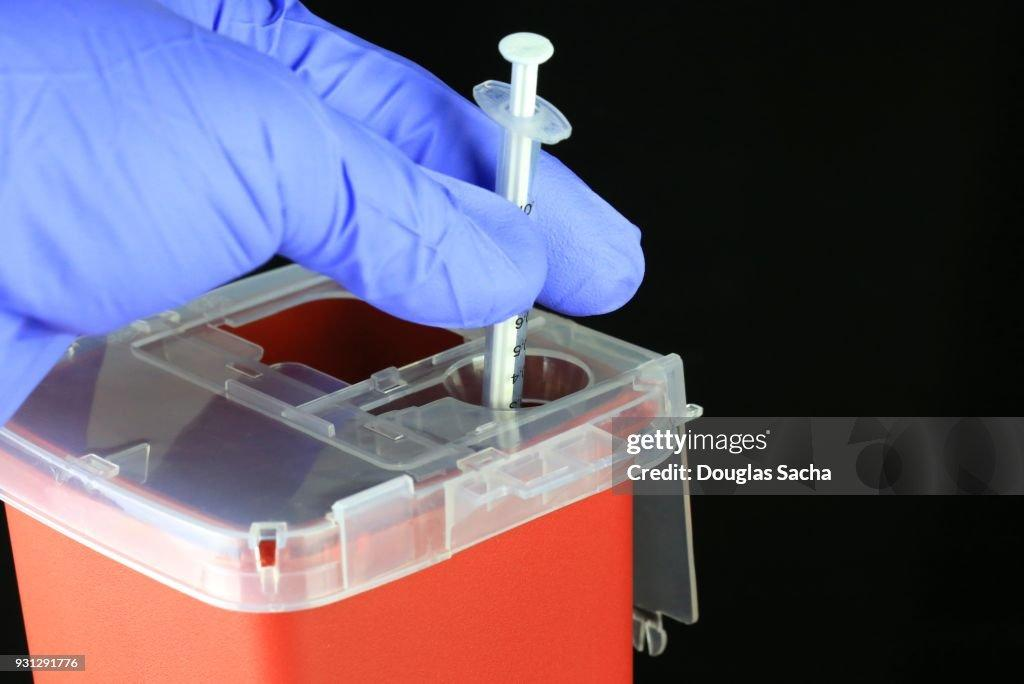Glove: (0, 0, 642, 424)
Syringe: (474, 32, 570, 213)
